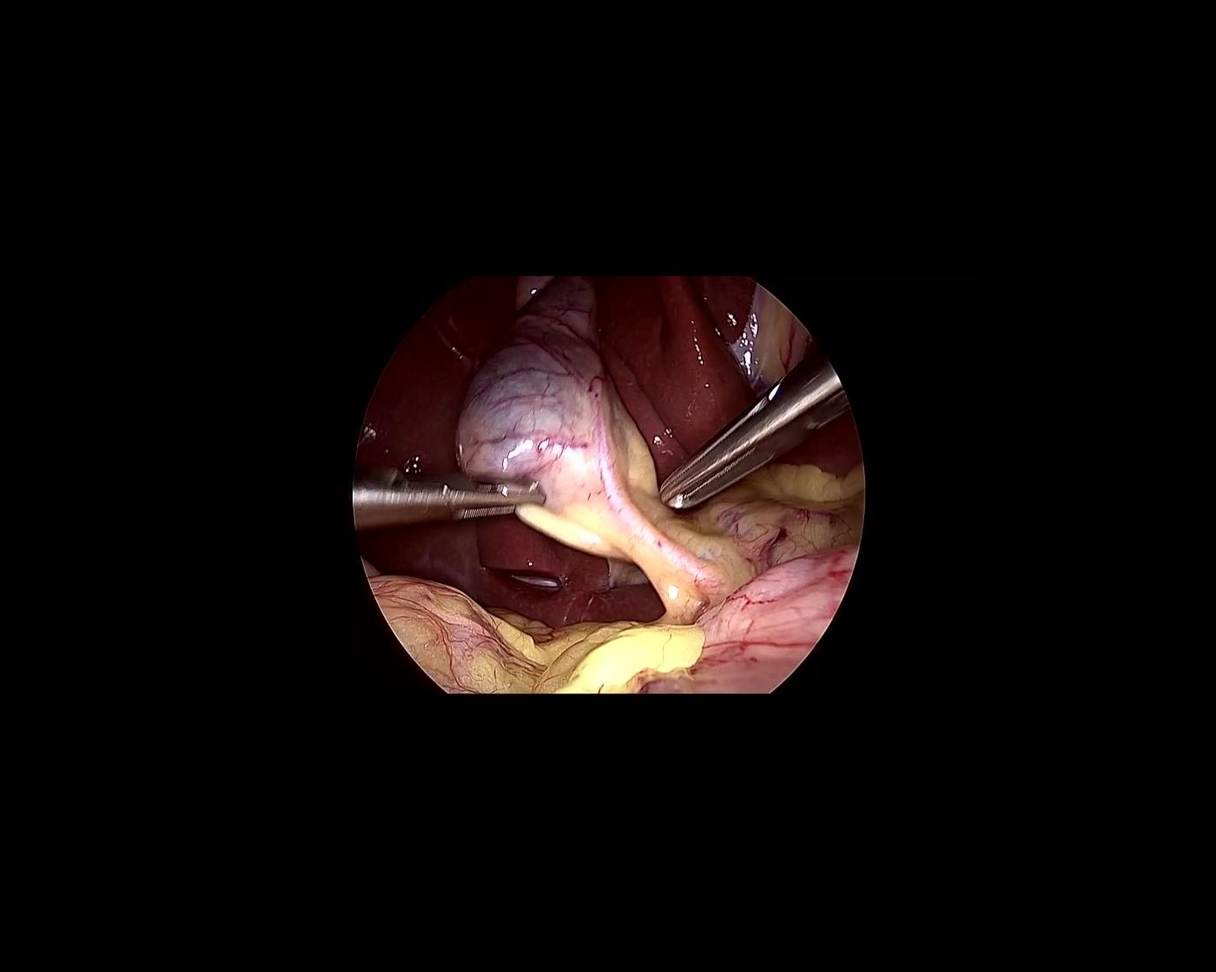Forceps: (630, 345, 856, 528), (350, 441, 547, 535)
Gallbladder: (419, 268, 674, 584)
Liver: (276, 263, 659, 715), (601, 276, 753, 484)
